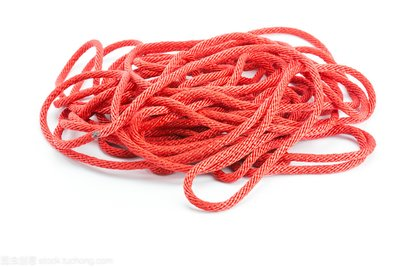9/可回收垃圾/绳子: (38, 26, 377, 213)
